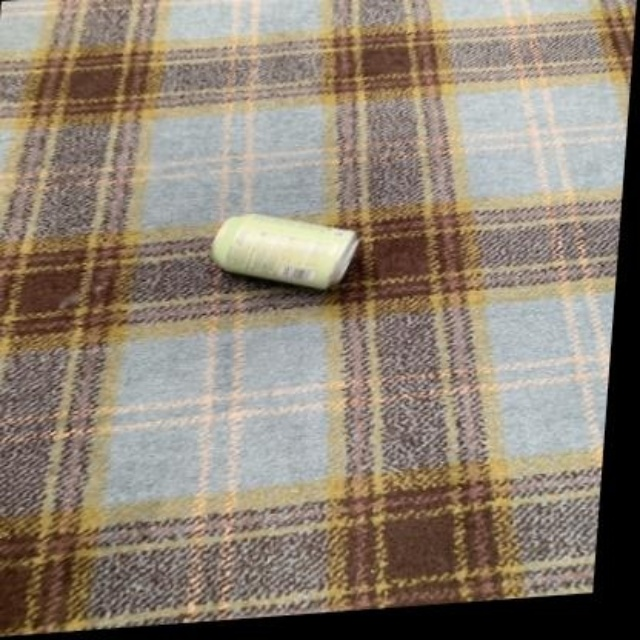trash: (212, 214, 357, 288)
